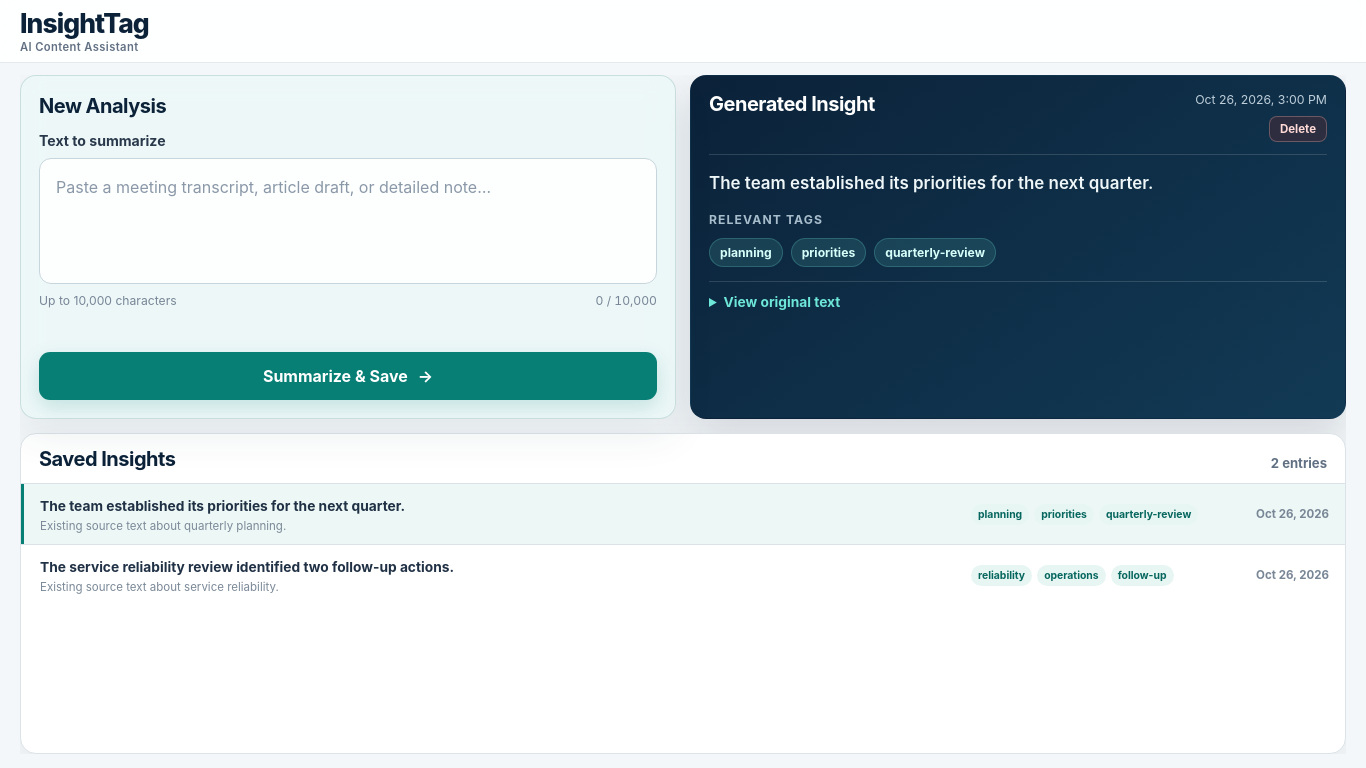
Test: InsightTag smoke flow › cancels or confirms deletion and refreshes only after confirmation
expect the text "The team established its priorities for the next quarter." below "Generated Insight" is shown: met, box [709,172,1153,192]
expect the heading "Generated Insight" is shown: met, box [709,92,875,116]
Click the button "Delete": {"x": 1298, "y": 128} [1269,116,1327,142]
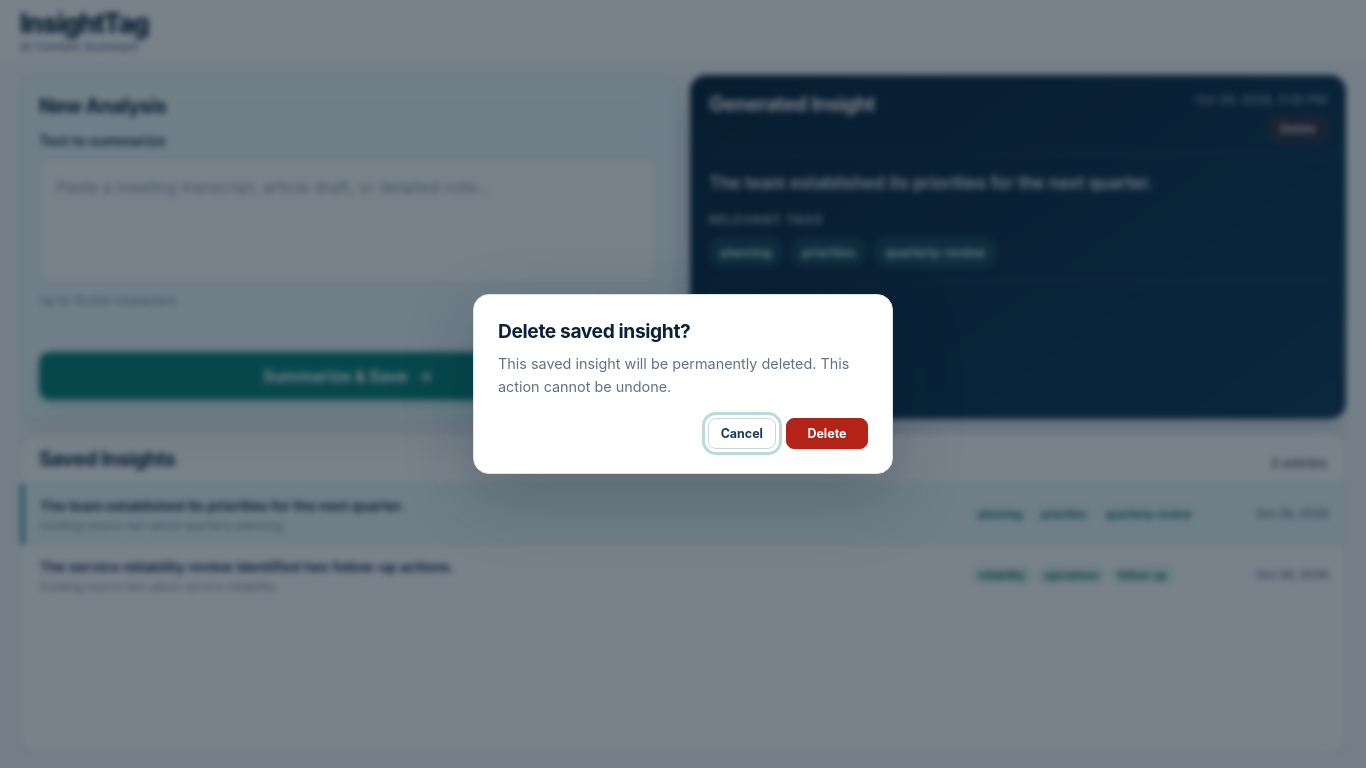
expect the dialog "Delete saved insight?" shows "This saved insight will be permanently deleted.": met, box [498,355,849,394]
Click the button "Cancel": {"x": 742, "y": 433} [708,418,776,449]
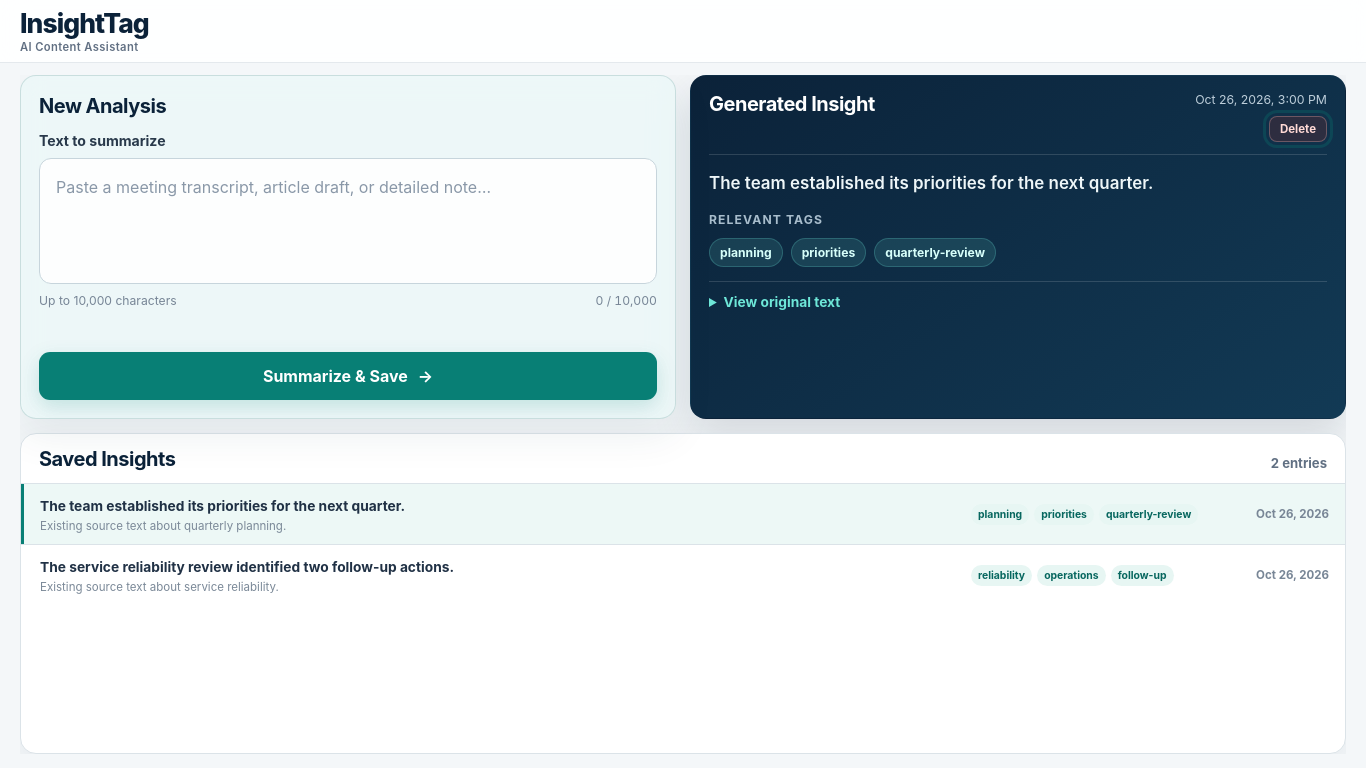
expect the dialog is gone: met
Click the button "Delete": {"x": 1298, "y": 128} [1269,116,1327,142]
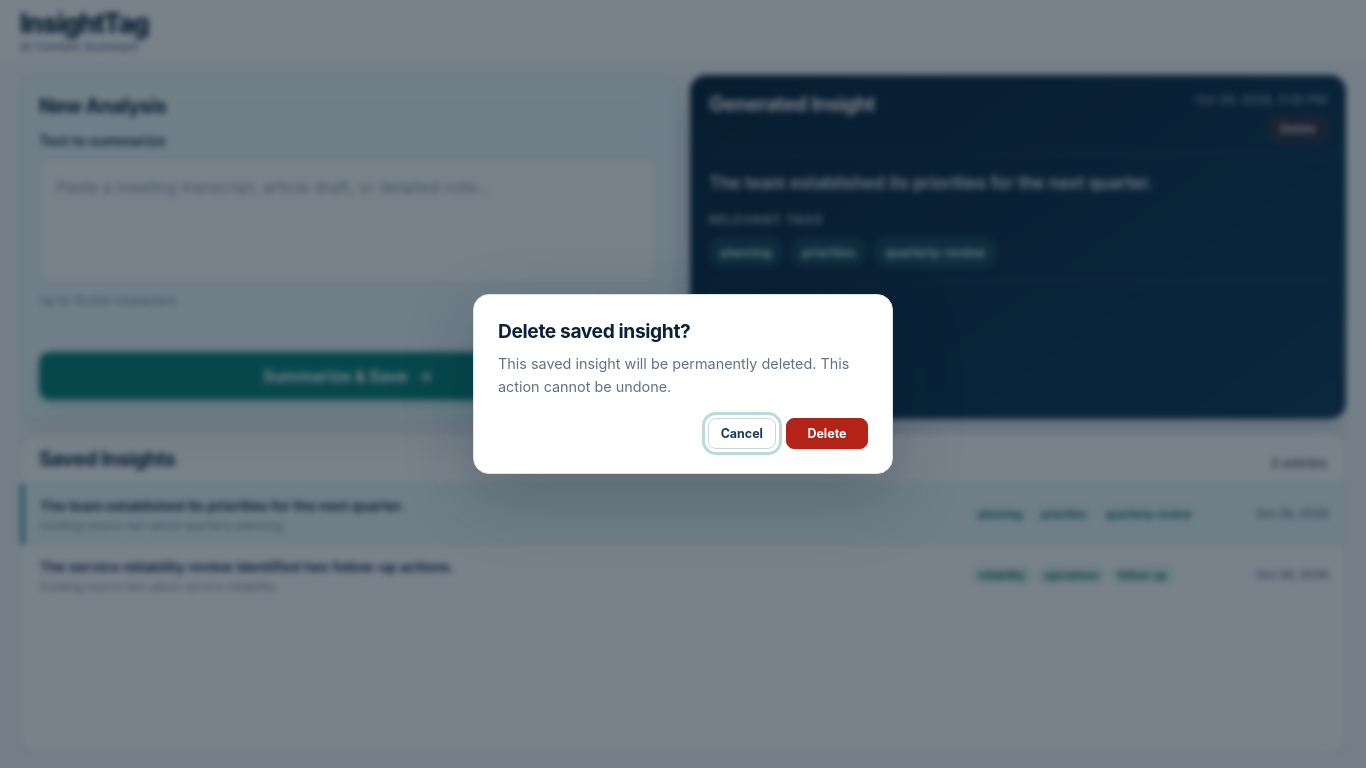
Click the button "Delete": {"x": 827, "y": 433} [786,418,868,449]
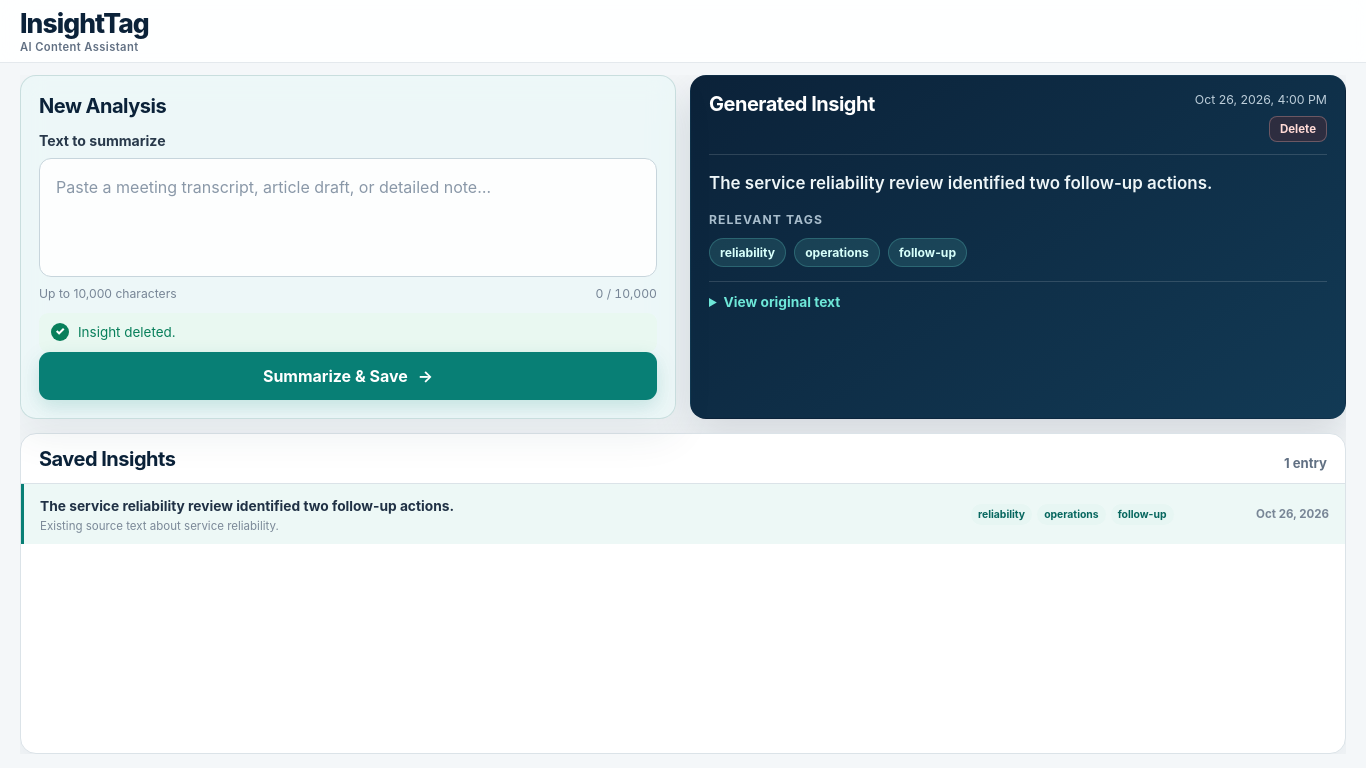
expect the dialog is gone: met
expect the text "The service reliability review identified two follow-up actions." below "Generated Insight" is shown: met, box [709,172,1212,192]
expect the text "The team established its priorities for the next quarter." is gone: met
